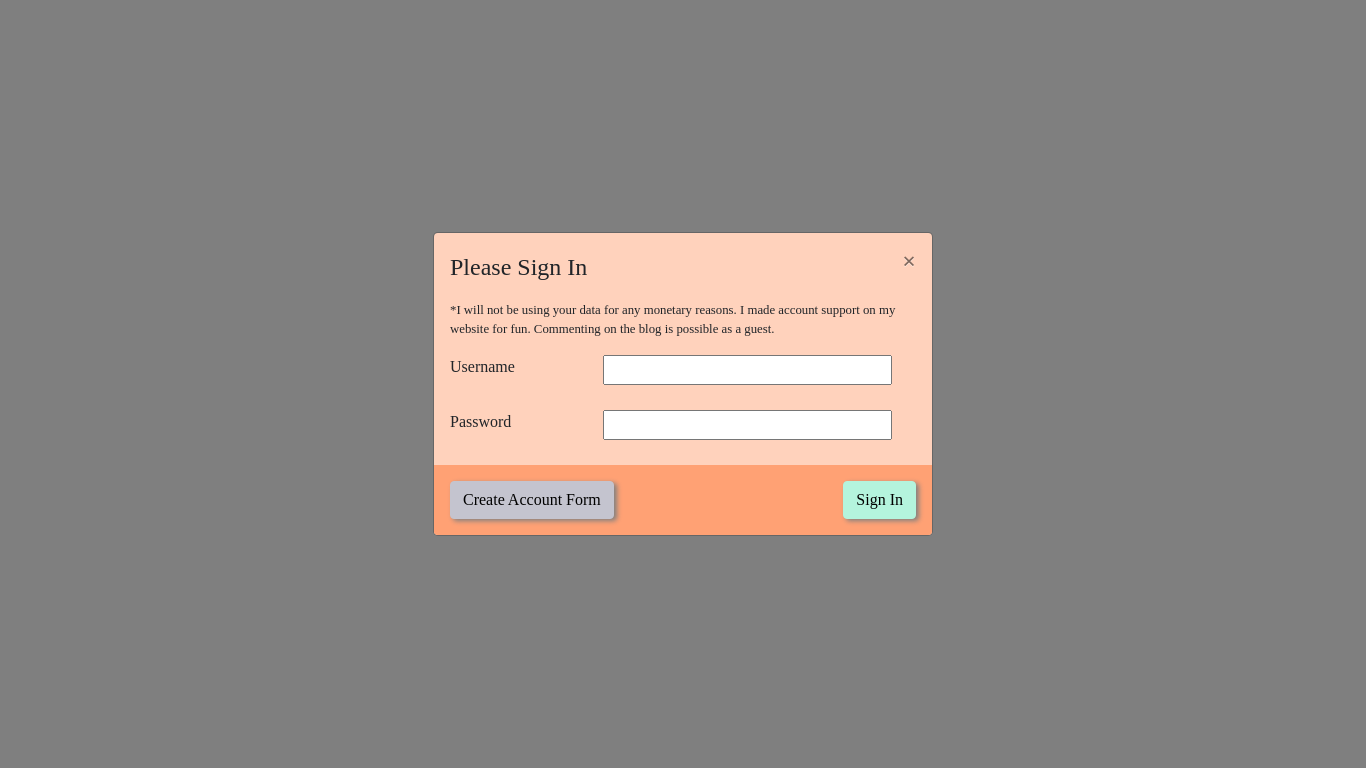
<SignUpModal /> › should change form type when form switch button is clicked
What coordinates should you click on to do the following:
click the button with test id "SIGN_UP_MODAL_FORM_BTN"
I would click on:
 (532, 500)
Its box is [450,481,614,519].
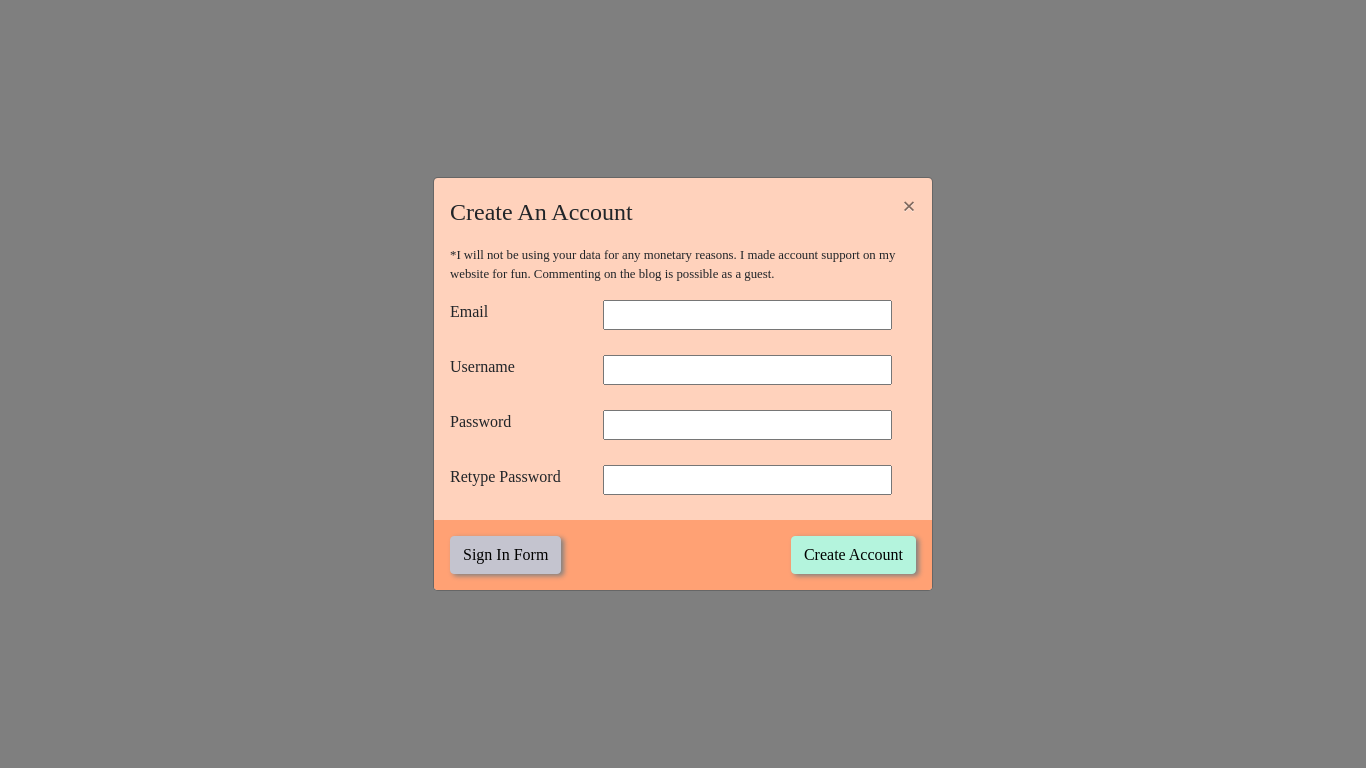
Now the text "Please Sign In" is gone
